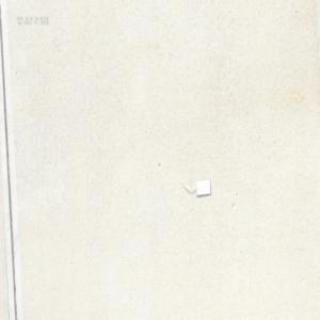LuggageTagtrack_idkeyframe: (178, 177, 211, 195)
